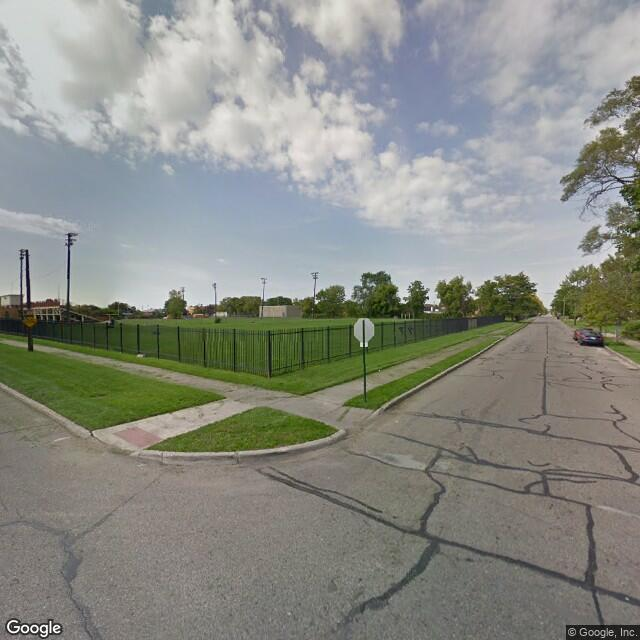litter: (137, 351, 144, 359), (377, 367, 383, 375)
